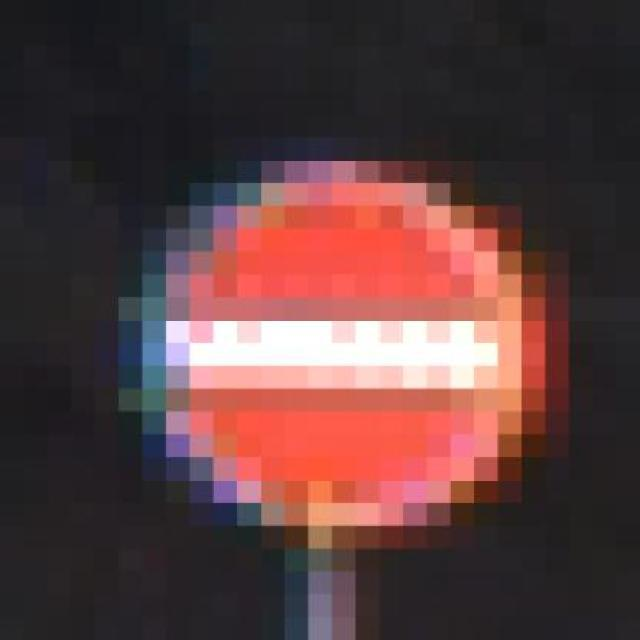B2: (161, 158, 525, 534)
